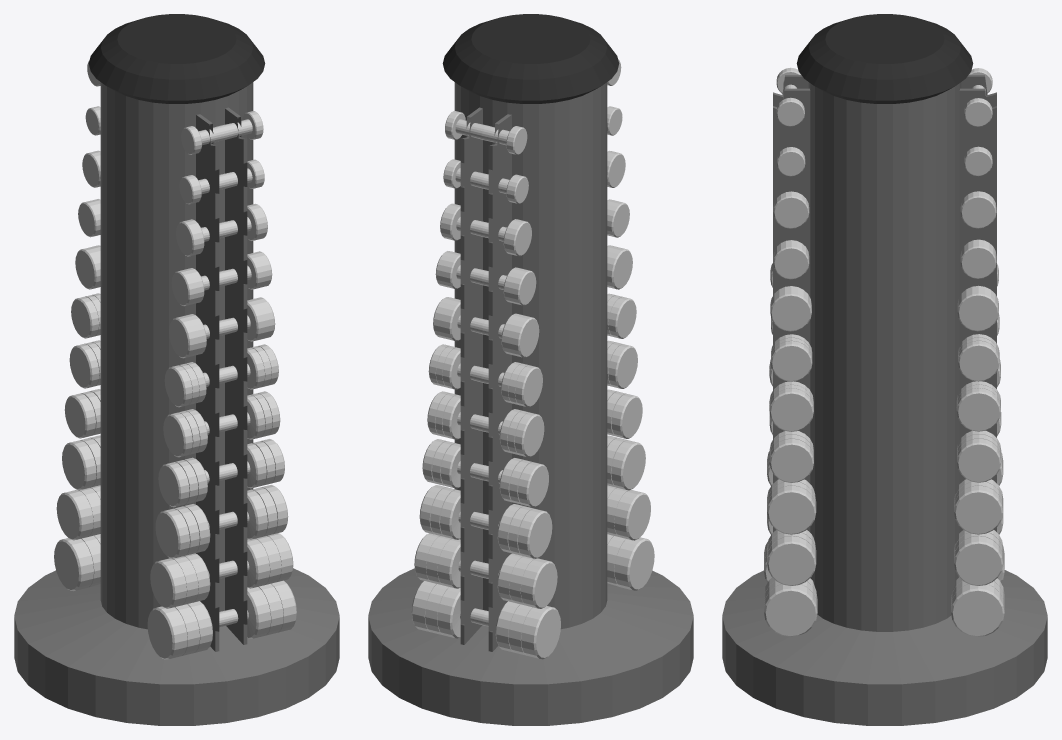
Rendered from ChromeDumbbellRack.fbx.
3 renders of one model, left to right at view 1: azimuth 30°, elevation 25°; view 2: azimuth 150°, elevation 25°; view 3: azimuth 270°, elevation 25°, orthographic.
Parts seen in each view (by area): view 1: ChromeDumbbellsRack; view 2: ChromeDumbbellsRack; view 3: ChromeDumbbellsRack.
Boxes of the visible parts, left/top/right/bottom form: ChromeDumbbellsRack: left=14, top=14, right=339, bottom=725; ChromeDumbbellsRack: left=368, top=14, right=693, bottom=725; ChromeDumbbellsRack: left=722, top=14, right=1047, bottom=725.
Bounding box in the file's own units: 56.82 × 120 × 57.13.
